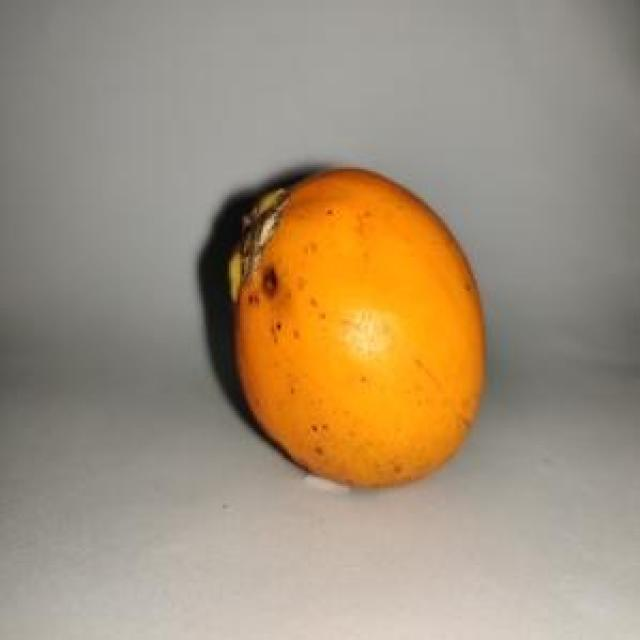good: (227, 167, 486, 492)
